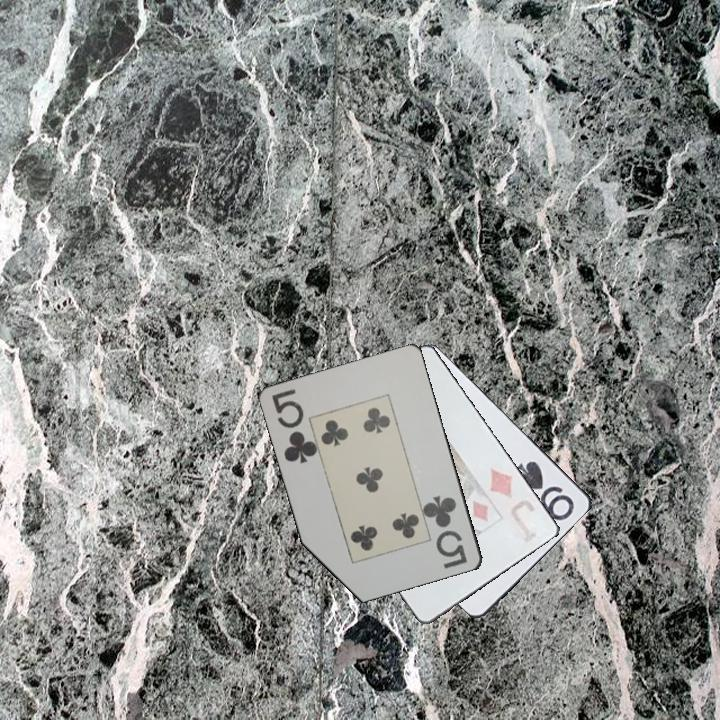5c: (269, 385, 319, 467), (422, 492, 471, 572)
9s: (511, 457, 578, 524)
Jd: (487, 465, 544, 546)
